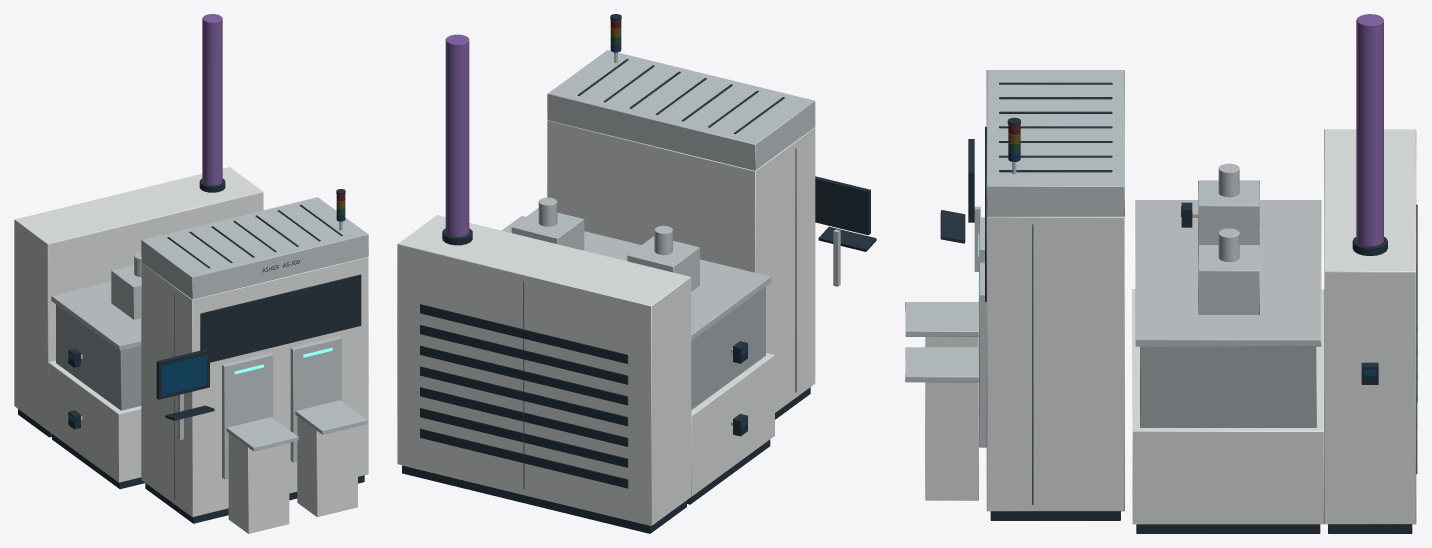
File: fab1-tool-ash.glb
3 renders of one model, left to right at view 1: azimuth 30°, elevation 25°; view 2: azimuth 150°, elevation 25°; view 3: azimuth 270°, elevation 25°, orthographic. The views are drawn at different scales.
Parts seen in each view (by area): view 1: TOOL_ASH_EFEM, TOOL_ASH_Cabinet, TOOL_ASH_LoadPorts, TOOL_ASH_Chamber, TOOL_ASH_Sources, TOOL_ASH_Operator, TOOL_HMI_Screen; view 2: TOOL_ASH_Cabinet, TOOL_ASH_EFEM, TOOL_ASH_Chamber, TOOL_ASH_Sources, TOOL_ASH_Operator; view 3: TOOL_ASH_EFEM, TOOL_ASH_Chamber, TOOL_ASH_Cabinet, TOOL_ASH_LoadPorts, TOOL_ASH_Sources, TOOL_ASH_Operator, TOOL_ASH_SignalTower.
Boxes of the visible parts, x1=… form: TOOL_ASH_EFEM: x1=141, y1=197, x2=368, y2=523; TOOL_ASH_Cabinet: x1=14, y1=14, x2=263, y2=437; TOOL_ASH_LoadPorts: x1=222, y1=336, x2=367, y2=533; TOOL_ASH_Chamber: x1=48, y1=281, x2=144, y2=489; TOOL_ASH_Sources: x1=111, y1=252, x2=141, y2=319; TOOL_ASH_Operator: x1=156, y1=349, x2=214, y2=439; TOOL_HMI_Screen: x1=162, y1=355, x2=206, y2=395; TOOL_ASH_Cabinet: x1=397, y1=34, x2=691, y2=533; TOOL_ASH_EFEM: x1=547, y1=50, x2=815, y2=419; TOOL_ASH_Chamber: x1=502, y1=216, x2=774, y2=504; TOOL_ASH_Sources: x1=511, y1=197, x2=699, y2=291; TOOL_ASH_Operator: x1=815, y1=176, x2=876, y2=286; TOOL_ASH_EFEM: x1=985, y1=70, x2=1124, y2=520; TOOL_ASH_Chamber: x1=1132, y1=200, x2=1324, y2=533; TOOL_ASH_Cabinet: x1=1324, y1=14, x2=1417, y2=533; TOOL_ASH_LoadPorts: x1=905, y1=217, x2=986, y2=500; TOOL_ASH_Sources: x1=1198, y1=163, x2=1259, y2=314; TOOL_ASH_Operator: x1=940, y1=139, x2=980, y2=271; TOOL_ASH_SignalTower: x1=1007, y1=117, x2=1020, y2=174.
Size of the model in its own units: 2.52 by 3.55 by 3.34.
3 materials, 1 textured.
